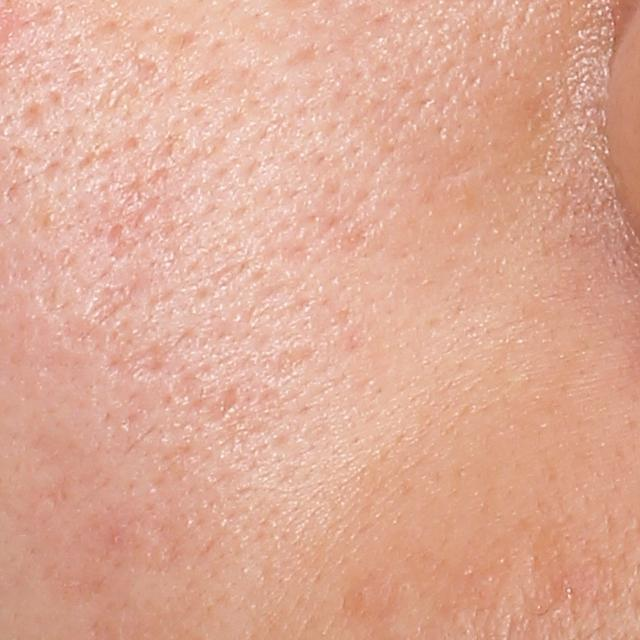atrophic_scar: (58, 280, 154, 362), (105, 341, 177, 386), (199, 385, 245, 434), (102, 220, 140, 269), (15, 99, 46, 140)
